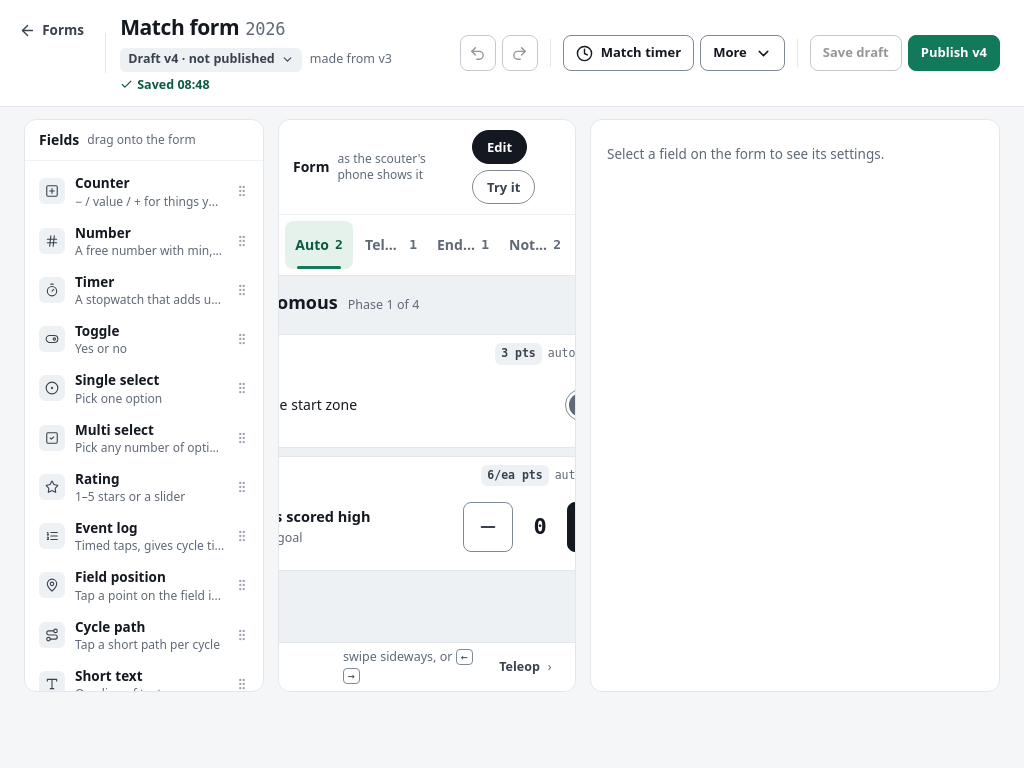
Test: Match timer (task 1.32, SPEC-FINAL 8.4) › reorders by its grip from the keyboard
The image size is (1024, 768).
Expected: the element "Form" is shown, [278, 119, 576, 692]
Click the button "Match timer": {"x": 628, "y": 53} [563, 35, 694, 71]
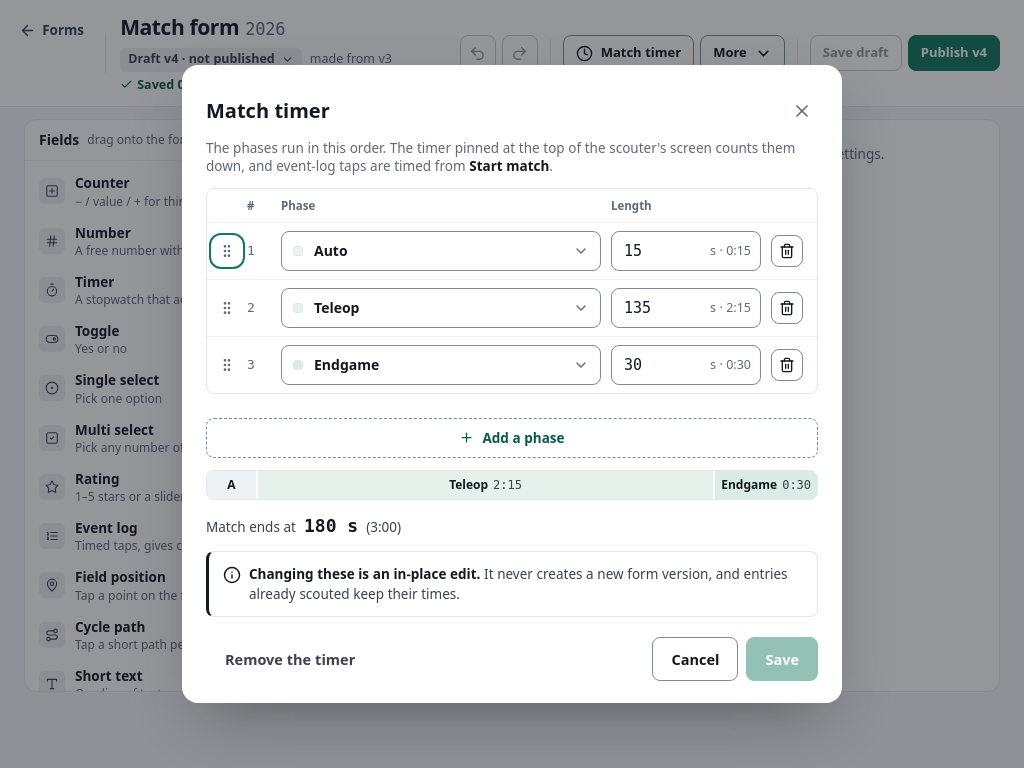
Press Space in the button named "Move Auto", box [213, 237, 241, 265]
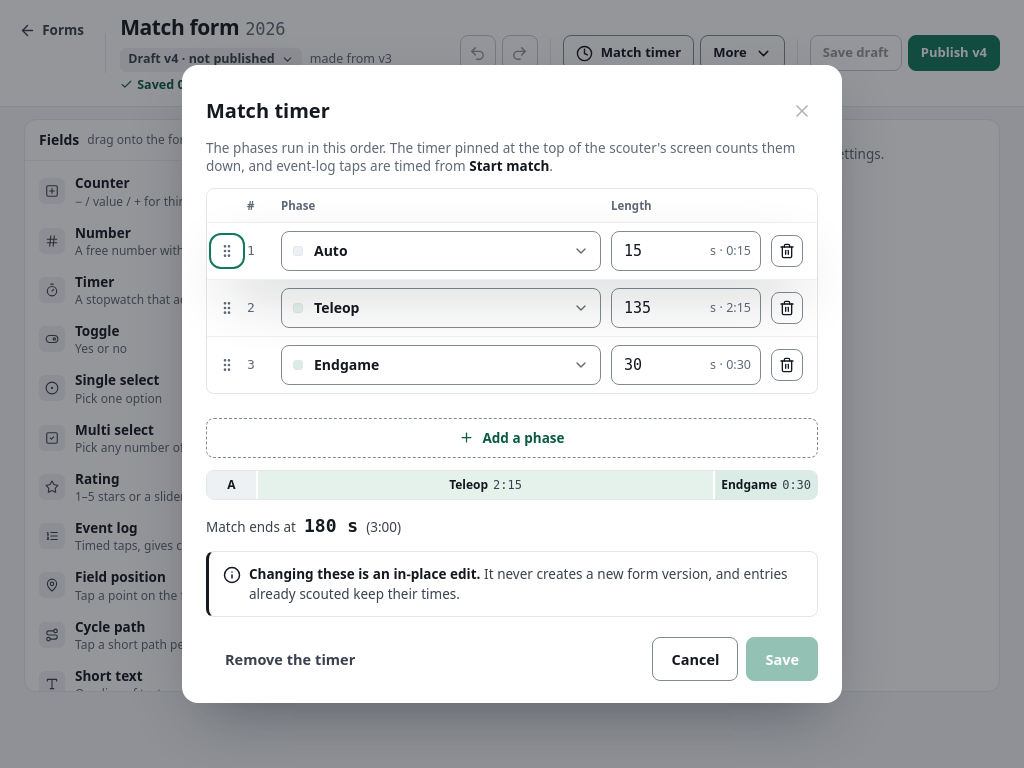
Press ArrowDown
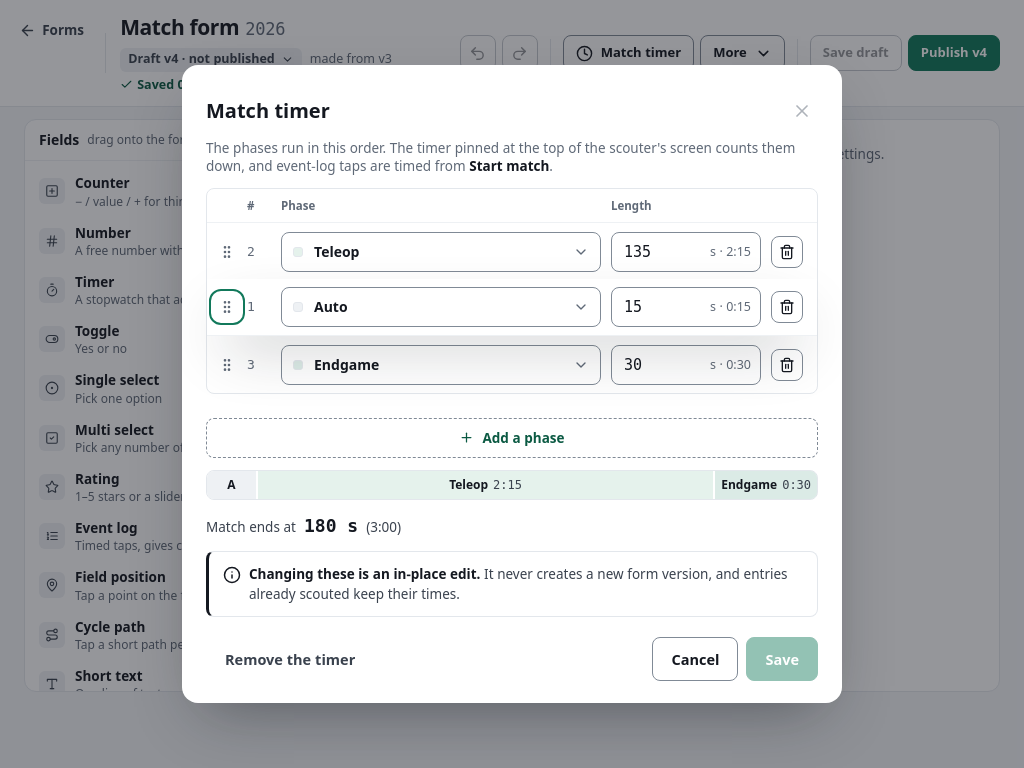
Press Space
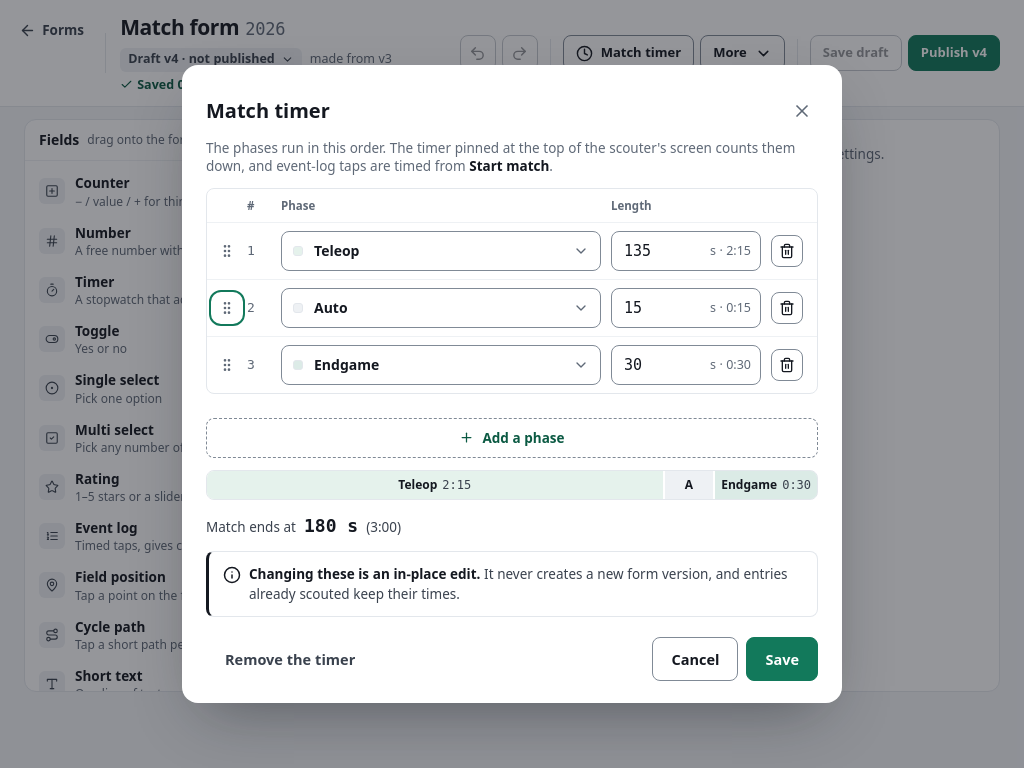
Now the dropdown named "Phase 1" shows "Teleop", box [281, 231, 601, 271]
Now the dropdown named "Phase 2" shows "Auto", box [281, 288, 601, 328]
Now the picture named "The match: Teleop 2:15, then Auto 0:15, then Endgame 0:30" is shown, box [206, 470, 818, 500]
